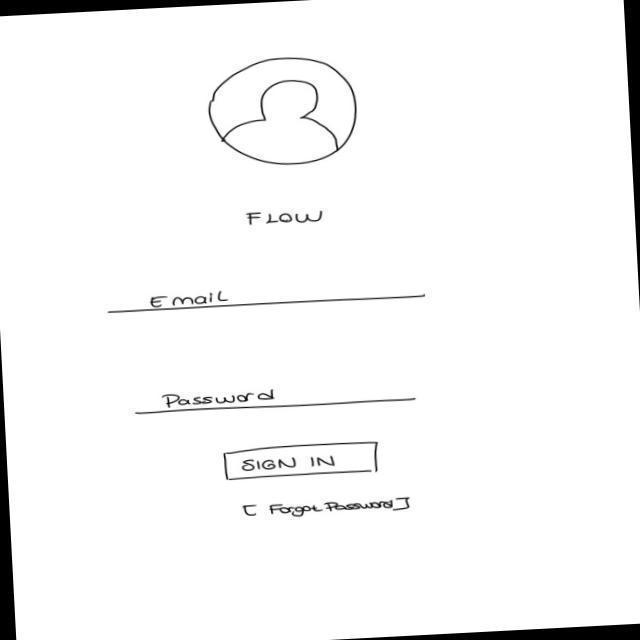button: (222, 440, 383, 484)
image: (206, 54, 363, 172)
input: (106, 280, 428, 317), (134, 381, 419, 418)
label: (245, 207, 329, 229)
link: (241, 495, 415, 522)
